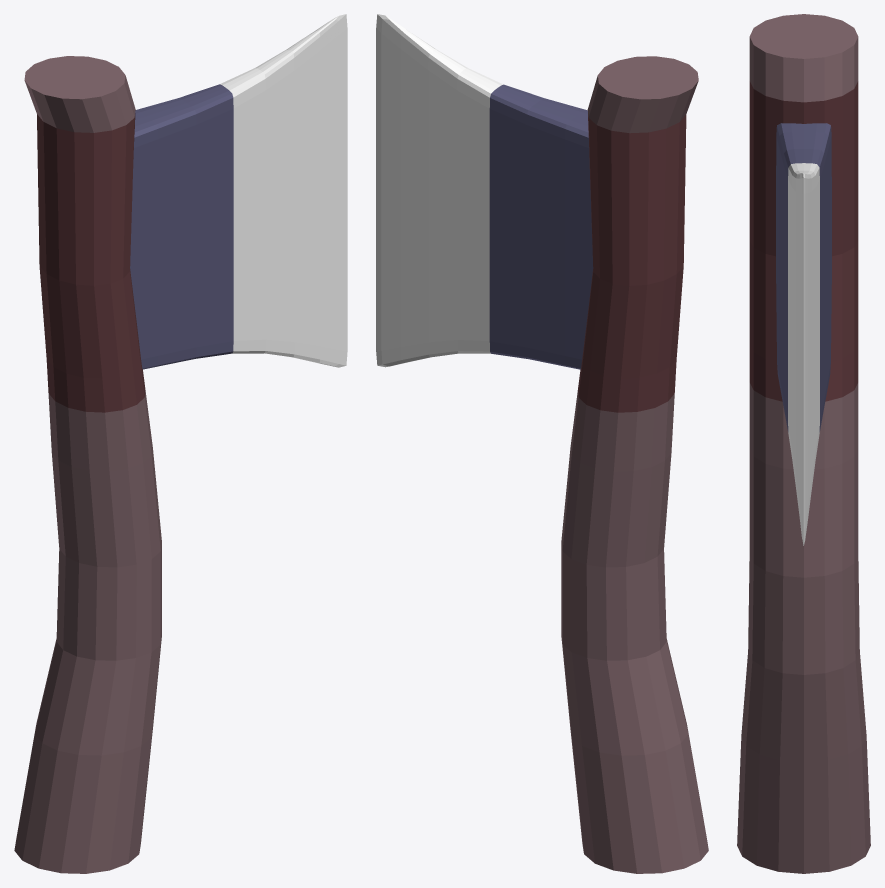
Rendered from Axe.fbx.
The picture shows the model from 3 angles, left to right: view 1: azimuth 30°, elevation 25°; view 2: azimuth 150°, elevation 25°; view 3: azimuth 270°, elevation 25°; orthographic projection. The views are drawn at different scales.
Parts seen in each view (by area): view 1: Cylinder, Cube; view 2: Cylinder, Cube; view 3: Cylinder, Cube.
Boxes of the visible parts, x1=… form: Cylinder: x1=14, y1=56, x2=161, y2=873; Cube: x1=130, y1=14, x2=347, y2=369; Cylinder: x1=561, y1=56, x2=708, y2=873; Cube: x1=376, y1=14, x2=593, y2=369; Cylinder: x1=737, y1=14, x2=870, y2=873; Cube: x1=776, y1=123, x2=831, y2=545.
Bounding box in the file's own units: 266 × 602 × 90.4.
